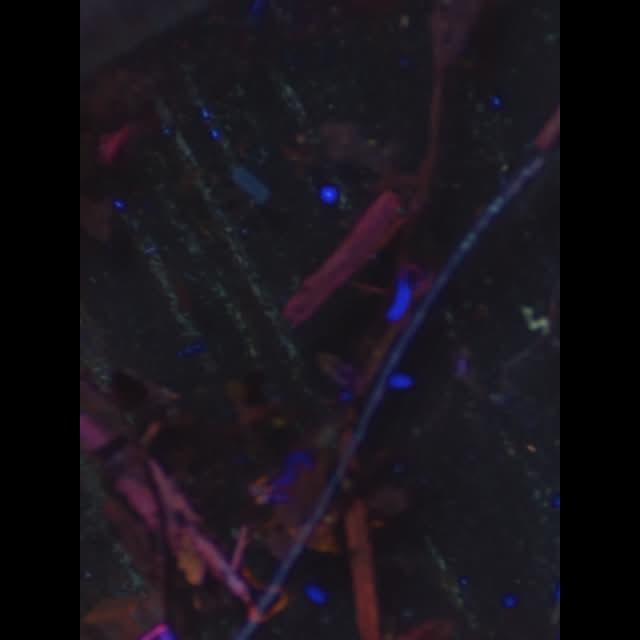Fibre: (520, 304, 552, 336)
